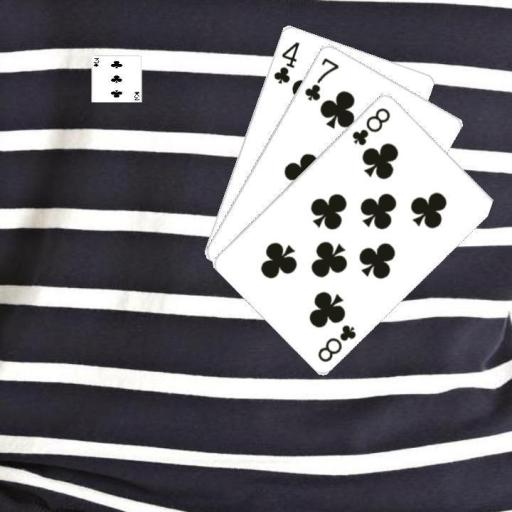card-corner: (300, 54, 340, 102), (348, 104, 392, 146), (314, 321, 358, 363), (270, 38, 301, 84)
